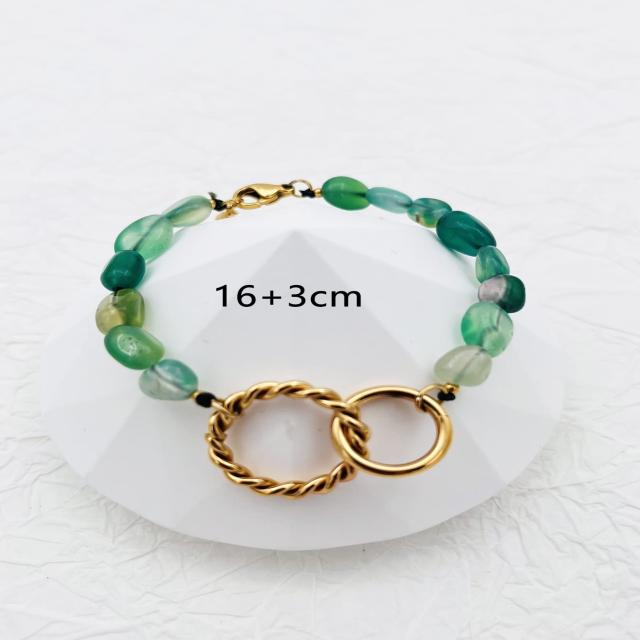bracelet: (75, 93, 600, 516)
